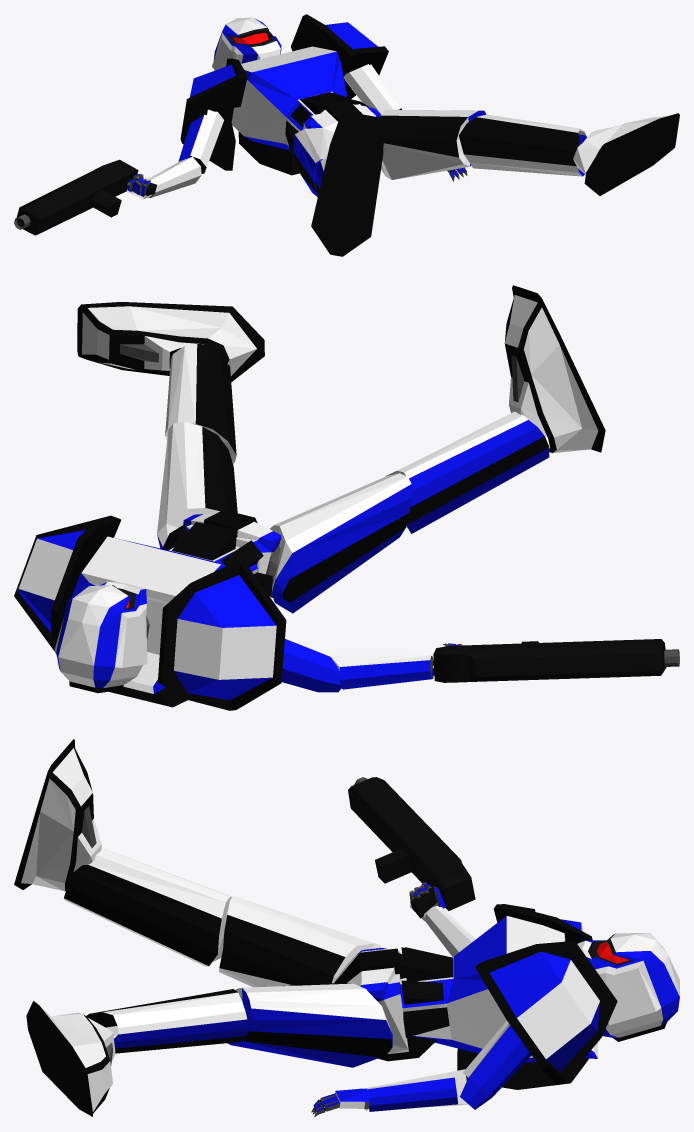
The model's file is robots_000046.obj.
3 views of the same model, one above another, from view 1: azimuth 30°, elevation 25°; view 2: azimuth 150°, elevation 25°; view 3: azimuth 270°, elevation 25° (orthographic). The views are drawn at different scales.
Parts seen in each view (by area): view 1: Chest_plate_Cube.004, R_Foot_Cube, R_Shin.002_Cube.029, R_Thigh.002_Cube.027, R_Foot.002_Cube.035, Cube_Cube.001, Cube.002_Cube.059, Cube_Cube.021, Head_base_Cube.022, R_Thigh_Cube.005, R_Arm_Cube.002, L_Arm_Cube.014 (+2 smaller); view 2: Cube.002_Cube.059, R_Thigh_Cube.005, Chest_plate_Cube.004, R_Foot.002_Cube.035, R_Foot_Cube, Cube_Cube.001, R_Shin_Cube.007, Head_base_Cube.022, R_Thigh.002_Cube.027, Cube_Cube.021, R_Shin.002_Cube.029, R_Forearm_Cube.008 (+2 smaller); view 3: Cube_Cube.021, Chest_plate_Cube.004, R_Shin_Cube.007, R_Thigh.002_Cube.027, R_Thigh_Cube.005, Cube_Cube.001, R_Foot_Cube, Head_base_Cube.022, R_Shin.002_Cube.029, R_Foot.002_Cube.035, Pelvis_Cube.006, L_Arm_Cube.014 (+4 smaller).
Part boxes in pixels (<box>): Chest_plate_Cube.004: <box>231,46,368,175</box>; R_Foot_Cube: <box>311,111,384,256</box>; R_Shin.002_Cube.029: <box>459,114,586,176</box>; R_Thigh.002_Cube.027: <box>379,109,486,179</box>; R_Foot.002_Cube.035: <box>573,113,679,195</box>; Cube_Cube.001: <box>14,159,156,235</box>; Cube.002_Cube.059: <box>180,58,247,170</box>; Cube_Cube.021: <box>291,14,388,99</box>; Head_base_Cube.022: <box>212,17,281,70</box>; R_Thigh_Cube.005: <box>293,127,333,196</box>; R_Arm_Cube.002: <box>178,109,223,173</box>; L_Arm_Cube.014: <box>343,64,401,114</box>; Cube.002_Cube.059: <box>158,561,286,710</box>; R_Thigh_Cube.005: <box>269,473,411,613</box>; Chest_plate_Cube.004: <box>72,522,272,707</box>; R_Foot.002_Cube.035: <box>77,302,264,381</box>; R_Foot_Cube: <box>504,285,605,453</box>; Cube_Cube.001: <box>433,639,679,682</box>; R_Shin_Cube.007: <box>386,411,549,533</box>; Head_base_Cube.022: <box>54,581,147,693</box>; R_Thigh.002_Cube.027: <box>157,421,237,548</box>; Cube_Cube.021: <box>14,515,120,653</box>; R_Shin.002_Cube.029: <box>165,344,236,464</box>; R_Forearm_Cube.008: <box>329,655,433,689</box>; Cube_Cube.021: <box>475,941,617,1085</box>; Chest_plate_Cube.004: <box>400,915,597,1089</box>; R_Shin_Cube.007: <box>64,848,231,966</box>; R_Thigh.002_Cube.027: <box>227,983,392,1067</box>; R_Thigh_Cube.005: <box>219,896,381,987</box>; Cube_Cube.001: <box>348,777,475,918</box>; R_Foot_Cube: <box>14,739,101,891</box>; Head_base_Cube.022: <box>577,933,679,1041</box>; R_Shin.002_Cube.029: <box>86,989,248,1053</box>; R_Foot.002_Cube.035: <box>26,1001,115,1116</box>; Pelvis_Cube.006: <box>334,947,437,1061</box>; L_Arm_Cube.014: <box>460,1021,531,1109</box>.
Size of the model in its own units: 3.77 by 1.29 by 2.98.
